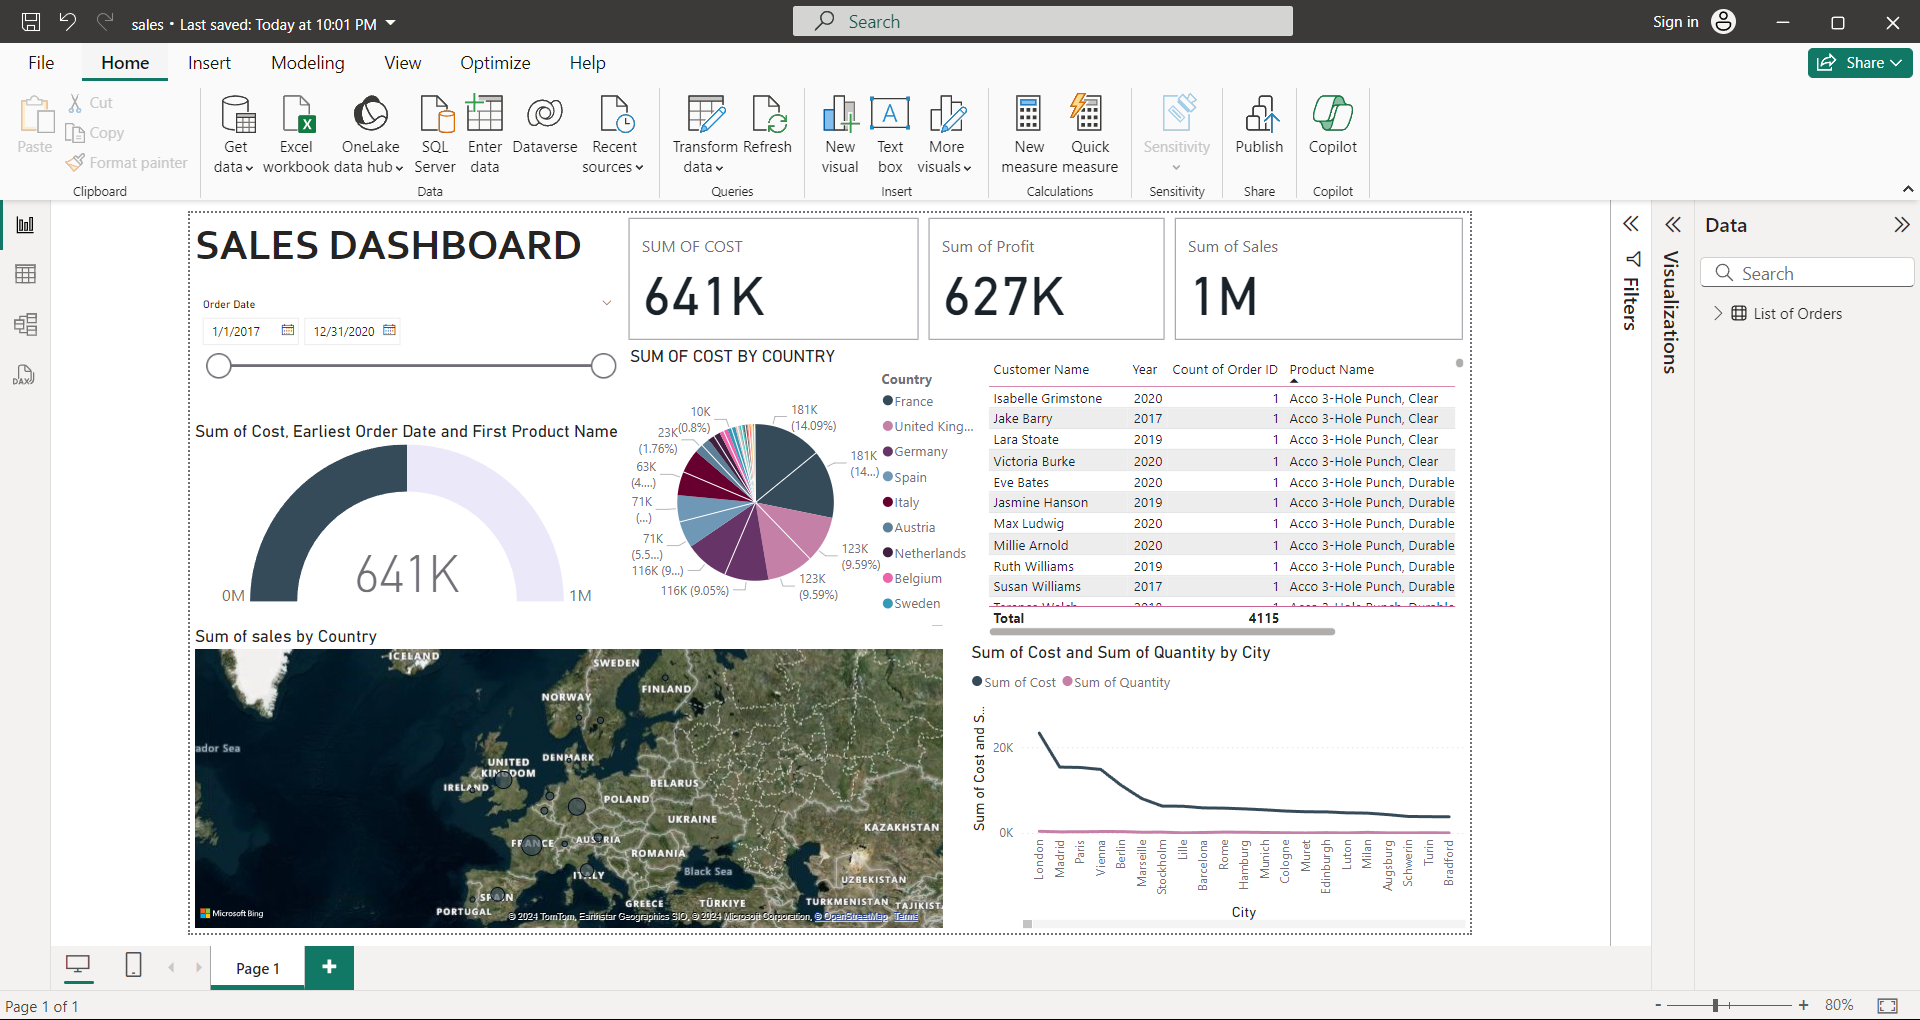

This screenshot's page, from the dashboard's own definition file:
{"tool":"powerbi","page":{"name":"Page 1","canvas":[1280,720],"ordinal":0},"visuals":[{"type":"pieChart","title":"SUM OF COST BY COUNTRY ","fields":{"Category":["List of Orders.Country"],"Y":["List of Orders.X","Sum(List of Orders.Cost)"]},"box":[435,133.1,370.5,295],"z":0},{"type":"lineChart","fields":{"Category":["List of Orders.City"],"Y":["Sum(List of Orders.Cost)","Sum(List of Orders.Quantity)"]},"box":[776.1,428.4,504.5,291],"z":1000},{"type":"cardVisual","fields":{"Data":["List of Orders.S"]},"box":[434.3,0,300,132.8],"z":2000},{"type":"cardVisual","fields":{"Data":["Sum(List of Orders.Profit)"]},"box":[734.3,0,246.3,132.8],"z":3000},{"type":"cardVisual","fields":{"Data":["Sum(List of Orders.Sales)"]},"box":[980.6,0,298.5,132.8],"z":4000},{"type":"gauge","fields":{"Y":["Sum(List of Orders.Cost)"]},"box":[0,207.5,434.3,191],"z":5000},{"type":"textbox","box":[0,0,419.4,62.7],"z":6000},{"type":"map","title":"Sum of sales by Country","fields":{"Category":["List of Orders.Country"],"Size":["List of Orders.QQ"]},"box":[0,411.9,758.2,307.5],"z":7000},{"type":"tableEx","fields":{"Values":["List of Orders.Customer Name","List of Orders.Order Date.Variation.Date Hierarchy.Year","CountNonNull(List of Orders.Order ID)","List of Orders.Product Name","List of Orders.Region","List of Orders.Ship Mode"]},"box":[792.5,140.3,486.6,288.1],"z":8000},{"type":"slicer","fields":{"Values":["List of Orders.Order Date"]},"box":[0,80.6,434.3,126.9],"z":9000}]}

Visuals, with their boxes on the page's 1280x720 design canvas (x1, y1, x2, y2). These are canvas units, not pixel positions in the 1920x1020 screenshot, which may show the page scaled, cropped or inside an application window:
"SUM OF COST BY COUNTRY " pieChart: x1=435, y1=133, x2=806, y2=428
lineChart - List of Orders.City x Sum(List of Orders.Cost): x1=776, y1=428, x2=1281, y2=719
cardVisual - List of Orders.S: x1=434, y1=0, x2=734, y2=133
cardVisual - Sum(List of Orders.Profit): x1=734, y1=0, x2=981, y2=133
cardVisual - Sum(List of Orders.Sales): x1=981, y1=0, x2=1279, y2=133
gauge - Sum(List of Orders.Cost): x1=0, y1=208, x2=434, y2=398
textbox: x1=0, y1=0, x2=419, y2=63
"Sum of sales by Country" map: x1=0, y1=412, x2=758, y2=719
tableEx - List of Orders.Customer Name x List of Orders.Order Date.Variation.Date Hierarchy.Year: x1=792, y1=140, x2=1279, y2=428
slicer - List of Orders.Order Date: x1=0, y1=81, x2=434, y2=208
